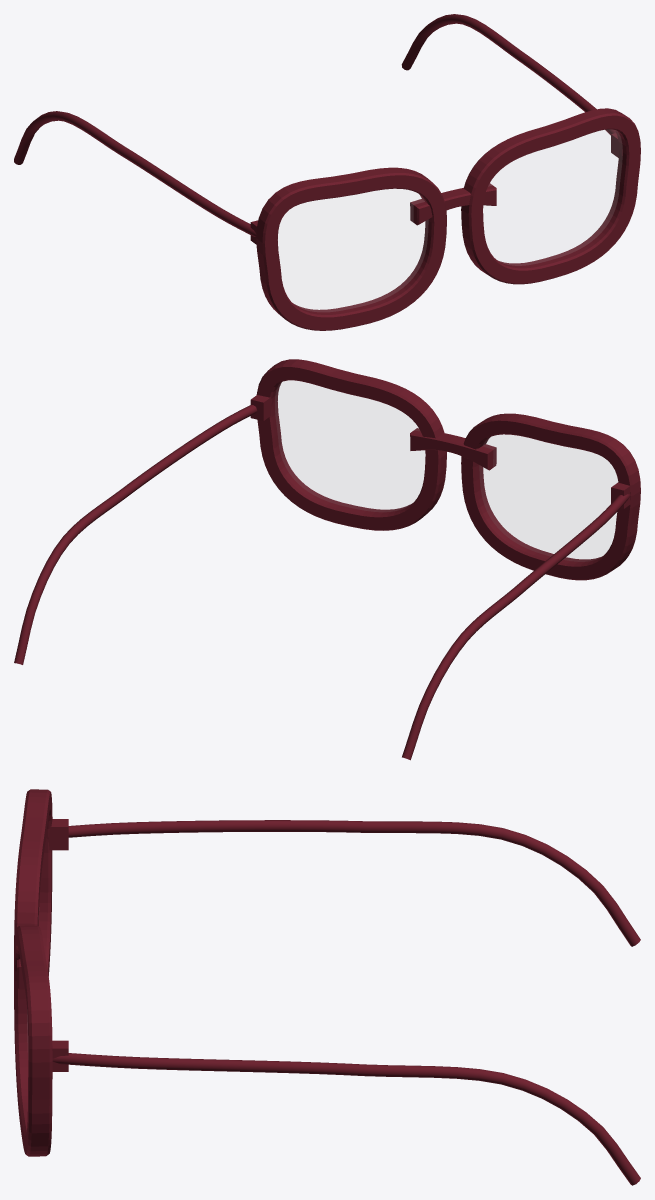
File: NY-W01_Mira_Burgundy.glb
3 views of the same model, one above another, from view 1: azimuth 30°, elevation 25°; view 2: azimuth 150°, elevation 25°; view 3: azimuth 270°, elevation 25° (orthographic). The views are drawn at different scales.
Visible parts, largest first — view 1: Mira_Burgundy_Acetate, Mira_Burgundy_Lenses; view 2: Mira_Burgundy_Acetate, Mira_Burgundy_Lenses; view 3: Mira_Burgundy_Acetate.
Boxes of the visible parts, x1,y1,x2,y2 form: Mira_Burgundy_Acetate: (14, 14, 640, 330); Mira_Burgundy_Lenses: (278, 130, 621, 311); Mira_Burgundy_Acetate: (14, 359, 640, 760); Mira_Burgundy_Lenses: (275, 381, 617, 561); Mira_Burgundy_Acetate: (14, 789, 640, 1185).
Bounding box in the file's own units: 0.1424 × 0.0503 × 0.1509.
